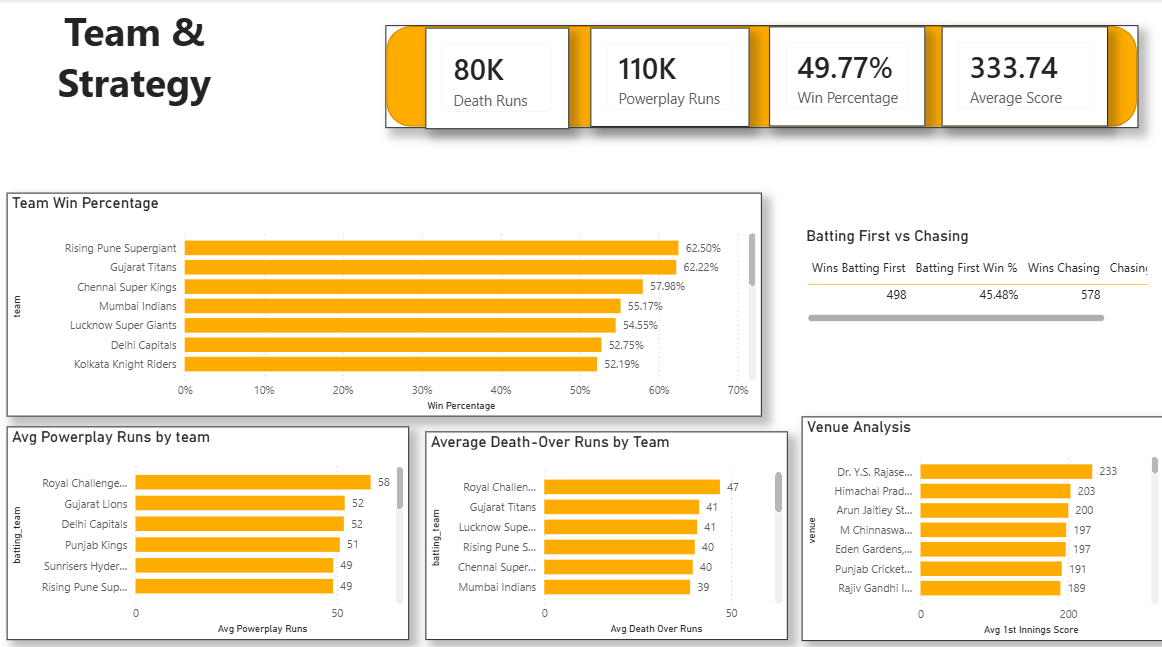

The page's visual inventory and layout, read from the dashboard file:
{"tool":"powerbi","page":{"name":"Team & Strategy","canvas":[1280,720],"ordinal":2},"visuals":[{"type":"shape","box":[425.4,28.8,826.1,112.5],"z":0},{"type":"textbox","box":[9.6,0,279.9,141.3],"z":1000},{"type":"cardVisual","fields":{"Data":["team_stats.Death Runs"]},"box":[469.3,31.6,157.8,111.1],"z":2000},{"type":"cardVisual","fields":{"Data":["team_stats.Powerplay Runs"]},"box":[650.4,31.6,174.3,108.4],"z":3000},{"type":"cardVisual","fields":{"Data":["team_stats.Win Percentage"]},"box":[846.7,30.2,171.5,109.8],"z":4000},{"type":"cardVisual","fields":{"Data":["team_stats.Average Score"]},"box":[1036,30.2,182.5,109.8],"z":5000},{"type":"barChart","title":"Team Win Percentage","fields":{"Category":["team_stats.team"],"Y":["team_stats.Win Percentage"]},"box":[9.6,212.7,828.8,245.6],"z":6000},{"type":"barChart","title":"Avg Powerplay Runs by team","fields":{"Category":["deliveries_cleaned.batting_team"],"Y":["team_stats.Avg Powerplay Runs"]},"box":[9.6,469.3,441.9,234.6],"z":7000},{"type":"barChart","title":"Average Death-Over Runs by Team","fields":{"Category":["deliveries_cleaned.batting_team"],"Y":["team_stats.Avg Death Over Runs"]},"box":[469.3,474.8,397.9,229.2],"z":8000},{"type":"barChart","title":"Venue Analysis","fields":{"Y":["team_stats.Avg 1st Innings Score"],"Category":["matches_cleaned.venue"]},"box":[882.3,458.3,398,246],"z":9000},{"type":"tableEx","title":"Batting First vs Chasing","fields":{"Values":["team_stats.Wins Batting First","team_stats.Batting First Win %","team_stats.Wins Chasing","team_stats.Chasing Win %"]},"box":[882.3,249.7,384.2,109.8],"z":10000}]}

Visuals, with their boxes in screenshot pixels (x1, y1, x2, y2), scaled from the page's 1280x720 canvas onto the 1162x647 screenshot:
shape: [x1=386, y1=26, x2=1136, y2=127]
textbox: [x1=9, y1=0, x2=263, y2=127]
cardVisual - team_stats.Death Runs: [x1=426, y1=28, x2=569, y2=128]
cardVisual - team_stats.Powerplay Runs: [x1=590, y1=28, x2=749, y2=126]
cardVisual - team_stats.Win Percentage: [x1=769, y1=27, x2=924, y2=126]
cardVisual - team_stats.Average Score: [x1=940, y1=27, x2=1106, y2=126]
"Team Win Percentage" barChart: [x1=9, y1=191, x2=761, y2=412]
"Avg Powerplay Runs by team" barChart: [x1=9, y1=422, x2=410, y2=633]
"Average Death-Over Runs by Team" barChart: [x1=426, y1=427, x2=787, y2=633]
"Venue Analysis" barChart: [x1=801, y1=412, x2=1161, y2=633]
"Batting First vs Chasing" tableEx: [x1=801, y1=224, x2=1150, y2=323]
